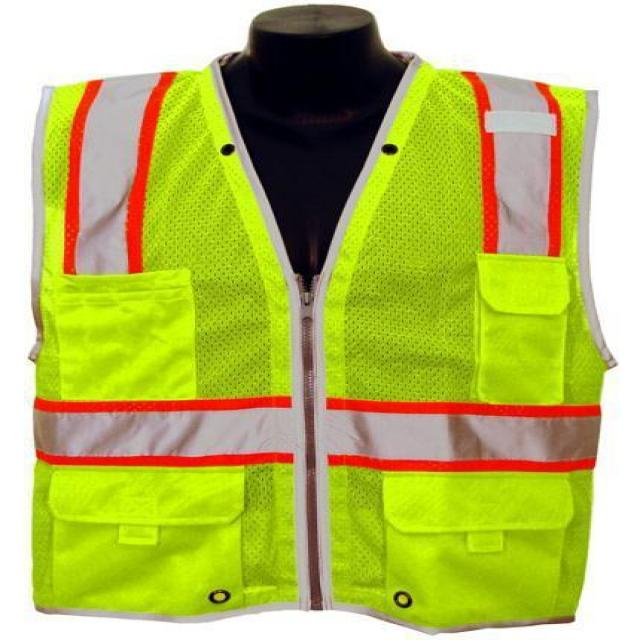Vest: (30, 61, 616, 630)
